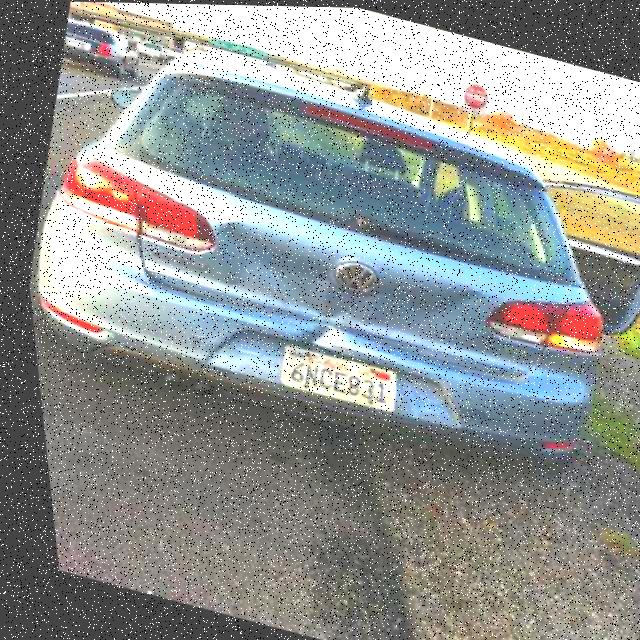license_plate: (264, 342, 394, 412), (62, 38, 82, 48)
